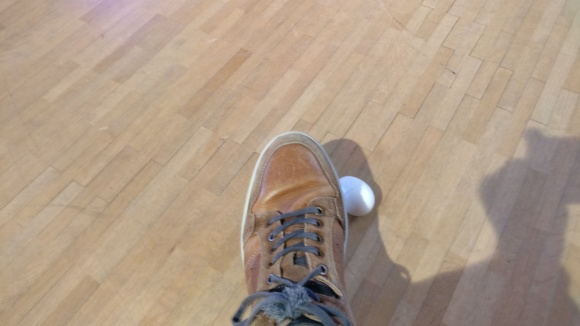egg: (339, 175, 375, 218)
